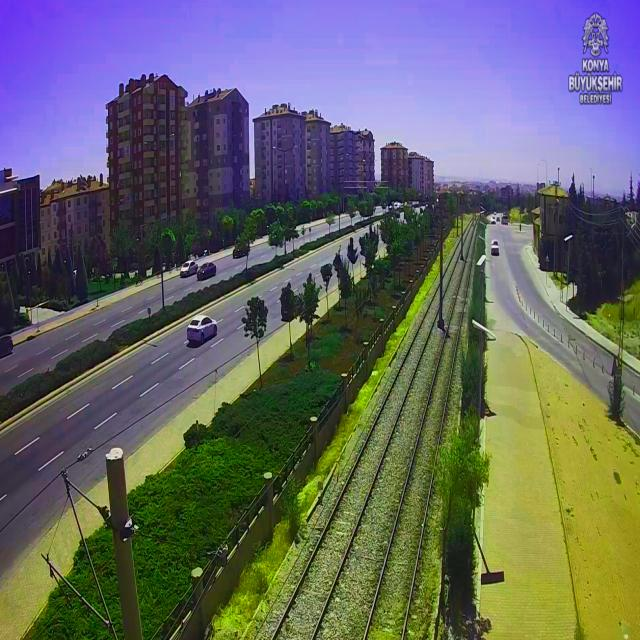car: (188, 314, 218, 346), (198, 261, 218, 281), (182, 259, 198, 276)
